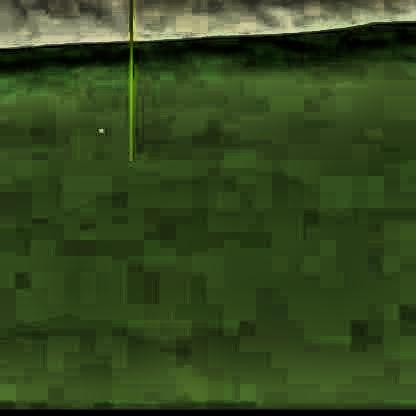golfball: (95, 122, 102, 132)
